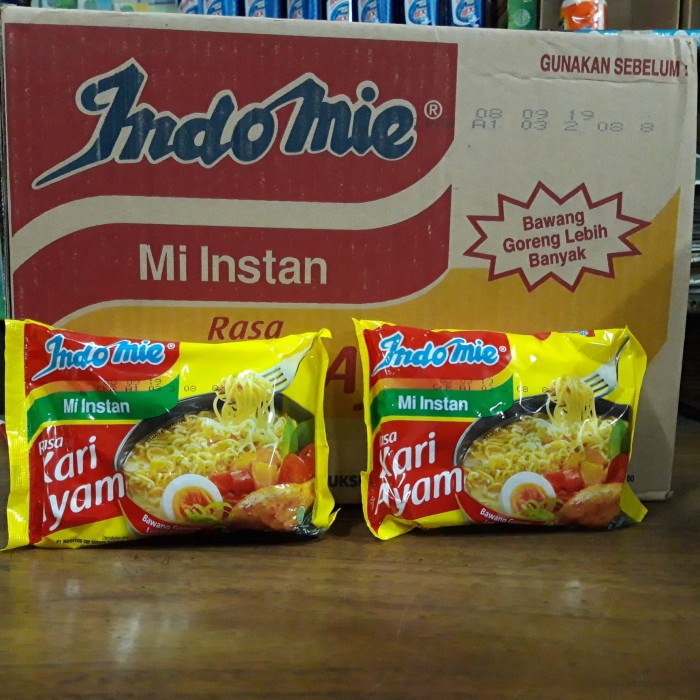indomie kari ayam: (2, 308, 341, 564), (350, 318, 671, 536)
